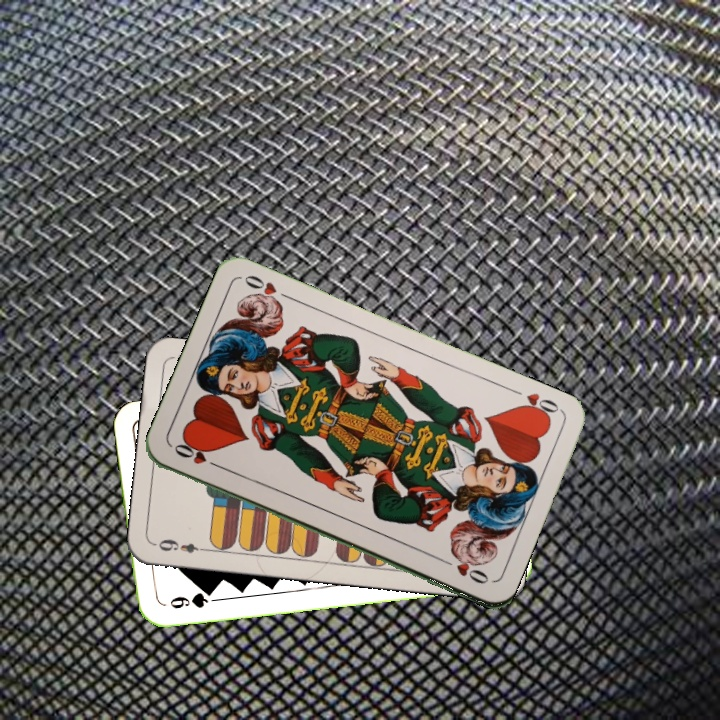E9: (151, 535, 210, 556)
G9: (166, 586, 217, 612)
HO: (170, 439, 225, 472), (513, 389, 564, 423)
